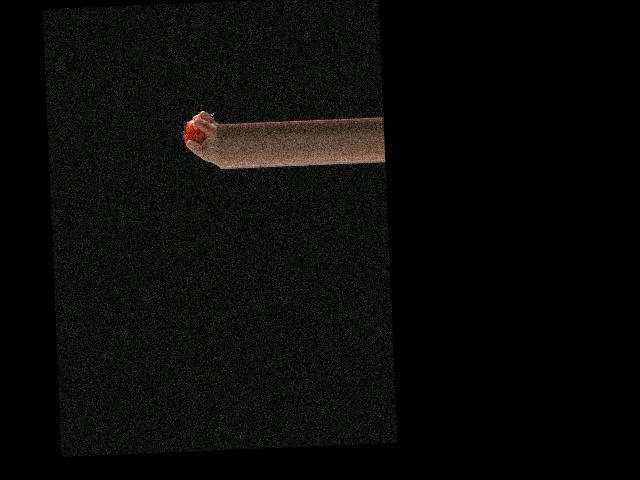tomato: (183, 119, 206, 144)
